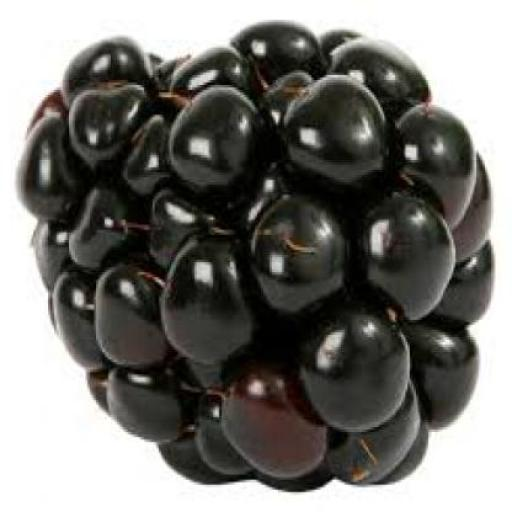biodegradable: (23, 20, 499, 490)
